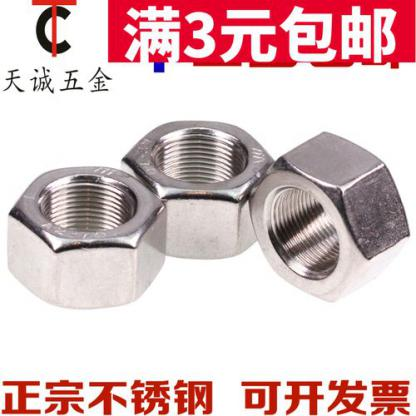FOD: (245, 122, 415, 306), (0, 163, 170, 308), (113, 117, 278, 262)
